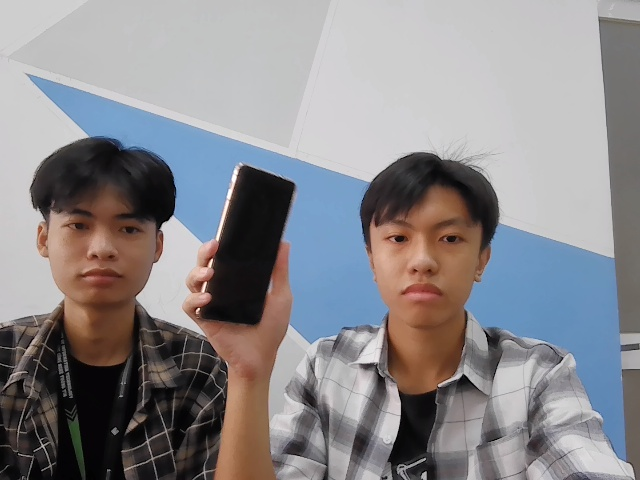human: (30, 137, 178, 310), (359, 150, 503, 326)
phone: (194, 160, 296, 329)
